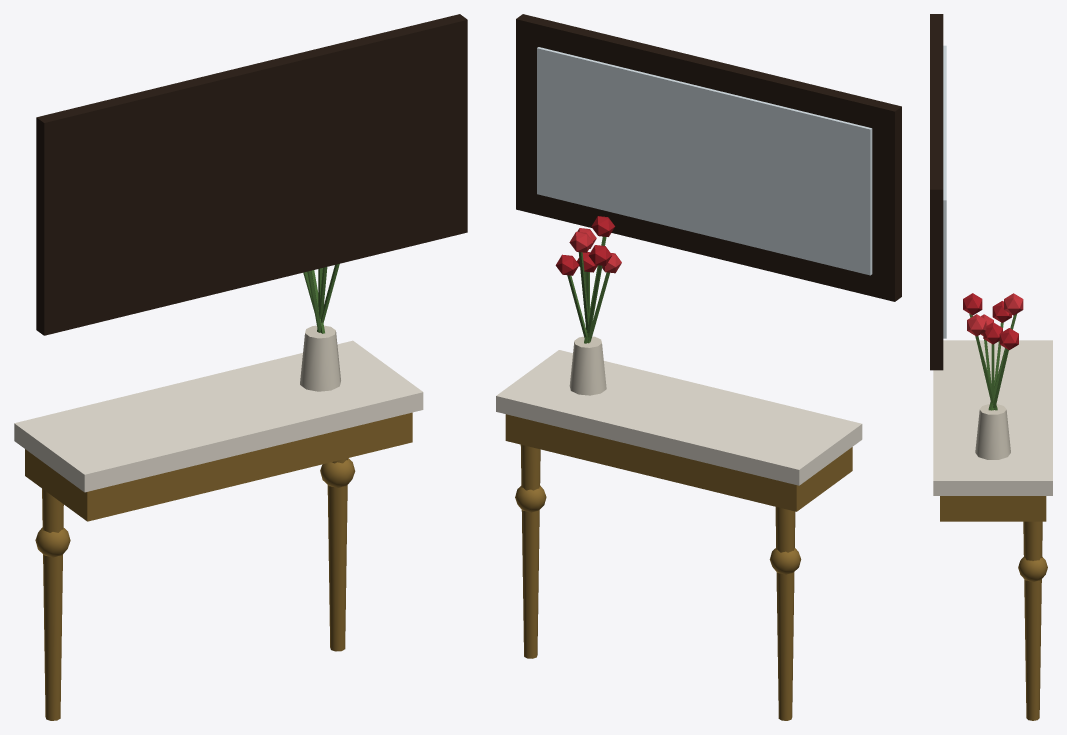
The model's file is console.obj.
3 views of the same model, side by side, from view 1: azimuth 30°, elevation 25°; view 2: azimuth 150°, elevation 25°; view 3: azimuth 270°, elevation 25° (orthographic). The views are drawn at different scales.
Visible parts, largest first — view 1: console_6, console_0, console_1, console_2, console_4, console_8, console_3, console_5; view 2: console_7, console_6, console_0, console_1, console_2, console_4, console_8; view 3: console_0, console_6, console_4, console_1, console_8, console_7, console_5, console_12, console_14, console_20, console_22, console_10 (+2 smaller).
Part boxes in pixels (<box>): console_6: <box>36,14,467,335</box>; console_0: <box>14,340,423,492</box>; console_1: <box>25,412,412,521</box>; console_2: <box>42,488,63,720</box>; console_4: <box>327,458,347,651</box>; console_8: <box>300,325,340,391</box>; console_3: <box>35,527,70,557</box>; console_5: <box>320,458,355,488</box>; console_7: <box>537,47,872,275</box>; console_6: <box>516,14,901,301</box>; console_0: <box>496,350,862,485</box>; console_1: <box>505,414,852,511</box>; console_2: <box>775,507,795,720</box>; console_4: <box>520,444,540,658</box>; console_8: <box>569,336,606,395</box>; console_0: <box>933,340,1052,495</box>; console_6: <box>930,14,943,370</box>; console_4: <box>1023,521,1042,720</box>; console_1: <box>940,496,1046,521</box>; console_8: <box>975,404,1010,459</box>; console_7: <box>943,45,946,338</box>; console_5: <box>1018,557,1047,581</box>; console_12: <box>967,314,986,336</box>; console_14: <box>963,293,982,315</box>; console_20: <box>1004,293,1023,315</box>; console_22: <box>999,328,1018,350</box>; console_10: <box>983,322,1002,344</box>.
Size of the model in its own units: 1.25 by 1.85 by 0.37.
